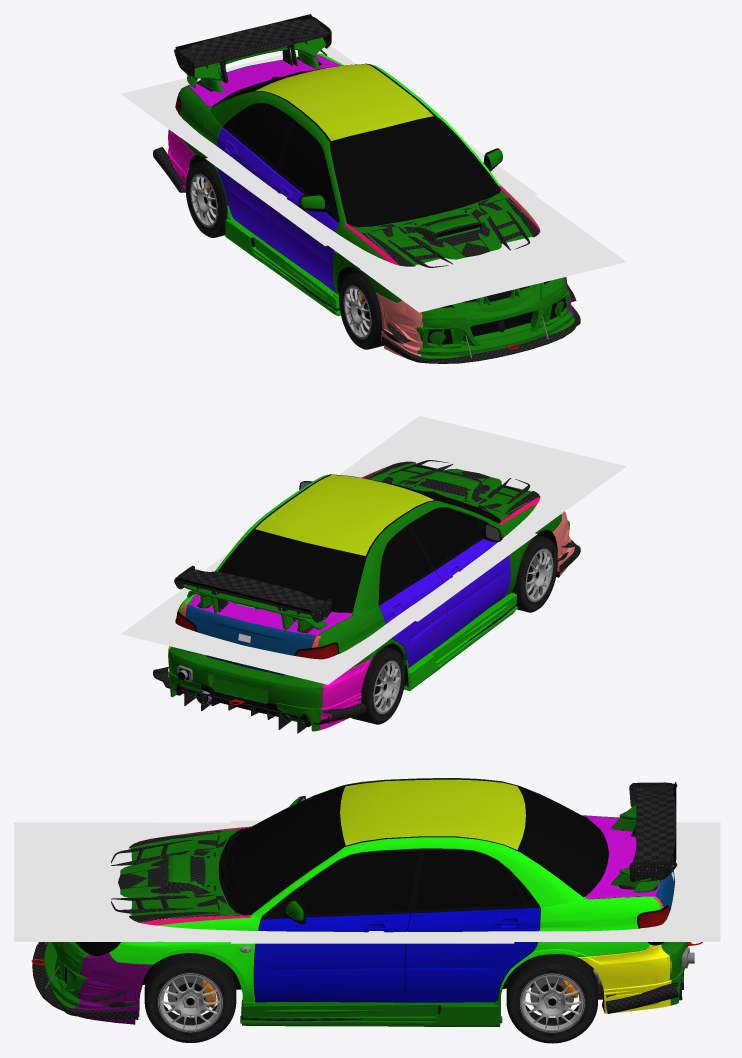
File: impreza.fbx
3 renders of one model, top to bottom at view 1: azimuth 30°, elevation 25°; view 2: azimuth 150°, elevation 25°; view 3: azimuth 270°, elevation 25°, orthographic. The views are drawn at different scales.
Parts seen in each view (by area): view 1: sub_s204_06_body_body_, neon (×4), sub_s204_06_glassF_window_, shadow, sub_s204_06_hooda_body_, sub_s204_06_hoodf_carbon_fiber_, sub_s204_06_wheel_tire_ (×2), sub_s204_06_bumperFe_body_, sub_s204_06_wingh_carbon_fiber_, sub_s204_06_glassRF_window_, sub_s204_06_body_black_glass_, sub_s204_06_glassRR_window_ (+20 smaller); view 2: sub_s204_06_body_body_, neon (×3), shadow, sub_s204_06_glassR_window_, sub_s204_06_trunk_body_, sub_s204_06_wheel_tire_ (×2), sub_s204_06_bumperRh_body_, sub_s204_06_hooda_body_, sub_s204_06_hoodf_carbon_fiber_, sub_s204_06_glassRF_window_, sub_s204_06_wingh_carbon_fiber_, sub_s204_06_wheel_rim_ (×2) (+18 smaller); view 3: sub_s204_06_body_body_, neon (×3), sub_s204_06_wheel_tire_ (×2), sub_s204_06_glassF_window_, sub_s204_06_glassLF_window_, shadow, sub_s204_06_hooda_body_, sub_s204_06_glassLR_window_, sub_s204_06_glassR_window_, sub_s204_06_hoodf_carbon_fiber_, sub_s204_06_wheel_rim_ (×2), sub_s204_06_skirtLd_body_ (+26 smaller).
Part boxes in pixels (x1,y1,x2,y2): sub_s204_06_body_body_: (178,53,540,302); neon (×4): (121,45,625,312); sub_s204_06_glassF_window_: (335,120,491,218); shadow: (167,98,576,285); sub_s204_06_hooda_body_: (351,190,533,265); sub_s204_06_hoodf_carbon_fiber_: (362,197,539,267); sub_s204_06_wheel_tire_ (×2): (185,160,383,349); sub_s204_06_bumperFe_body_: (376,278,571,354); sub_s204_06_wingh_carbon_fiber_: (176,17,330,91); sub_s204_06_glassRF_window_: (281,124,331,202); sub_s204_06_body_black_glass_: (217,64,499,227); sub_s204_06_glassRR_window_: (233,106,291,166); sub_s204_06_body_body_: (178,464,561,668); neon (×3): (121,416,625,684); shadow: (179,442,575,652); sub_s204_06_glassR_window_: (225,534,357,611); sub_s204_06_trunk_body_: (185,594,351,675); sub_s204_06_wheel_tire_ (×2): (351,535,557,724); sub_s204_06_bumperRh_body_: (168,646,363,731); sub_s204_06_hooda_body_: (366,462,538,521); sub_s204_06_hoodf_carbon_fiber_: (364,460,539,514); sub_s204_06_glassRF_window_: (410,511,479,566); sub_s204_06_wingh_carbon_fiber_: (176,565,330,632); sub_s204_06_wheel_rim_ (×2): (373,548,553,714); sub_s204_06_body_body_: (109,778,663,1002); neon (×3): (14,822,720,943); sub_s204_06_wheel_tire_ (×2): (144,953,597,1043); sub_s204_06_glassF_window_: (234,789,338,908); sub_s204_06_glassLF_window_: (298,852,417,913); shadow: (59,822,688,941); sub_s204_06_hooda_body_: (120,828,242,922); sub_s204_06_glassLR_window_: (416,851,521,909); sub_s204_06_glassR_window_: (524,791,605,890); sub_s204_06_hoodf_carbon_fiber_: (111,830,226,922); sub_s204_06_wheel_rim_ (×2): (160,973,584,1032); sub_s204_06_skirtLd_body_: (240,988,502,1023).
Size of the model in its own units: 4 by 1.45 by 5.04.
